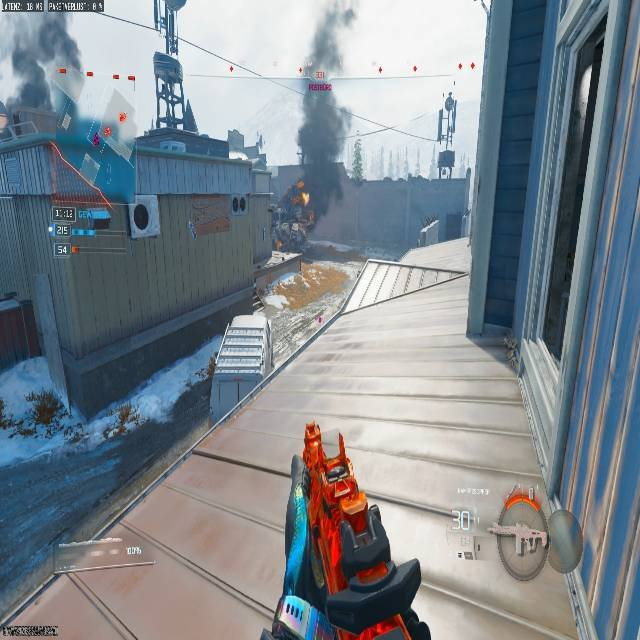head: (289, 180, 306, 200), (294, 176, 304, 189)
player: (251, 183, 316, 316), (274, 176, 314, 253)
